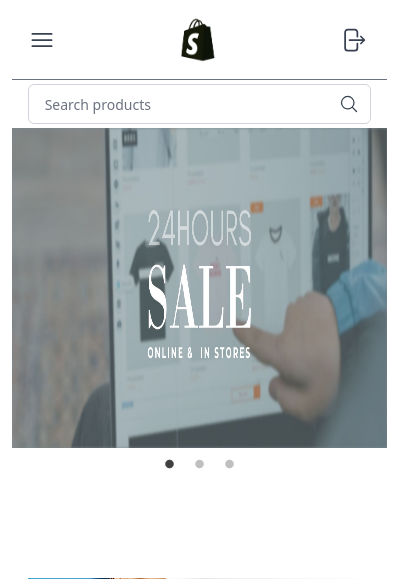
Test: Header tests › Does mobile menu works properly?
What coordinates should you click on to do the following:
click the element with test id "menu-button"
I would click on:
 (42, 40)
Its box is [28,26,56,54].
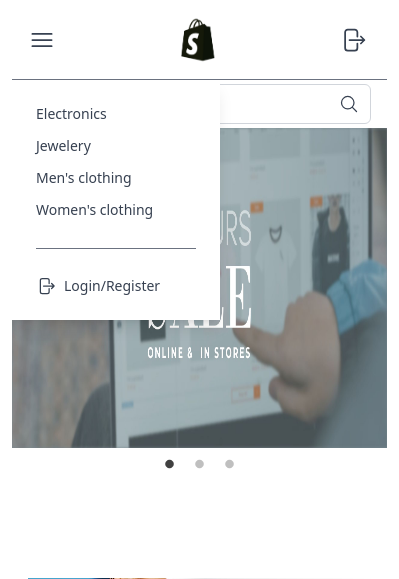
Now the element with test id "mobile-menu" is shown, box [12,80,220,320]
Now the link "Login/Register" is shown
What coordinates should you click on to do the following:
click the link "Login/Register"
I would click on:
 (98, 286)
Its box is [36,276,160,296].
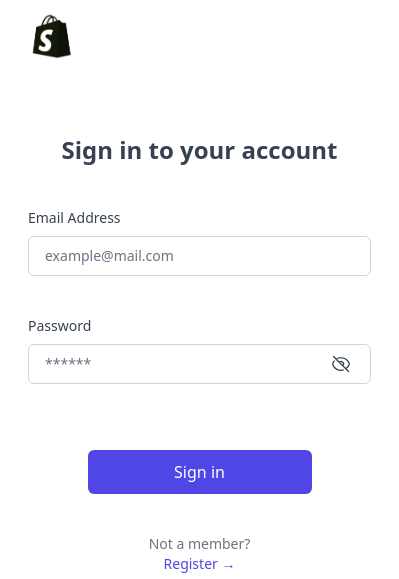
Now the element with test id "mobile-menu" is gone
